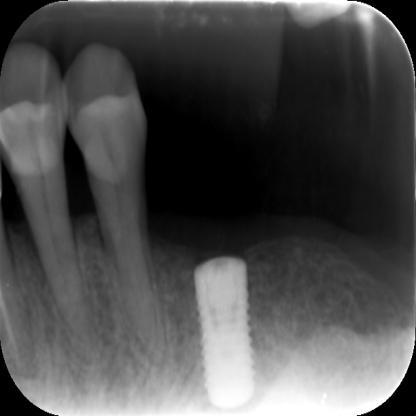ITI: (192, 252, 260, 414)
